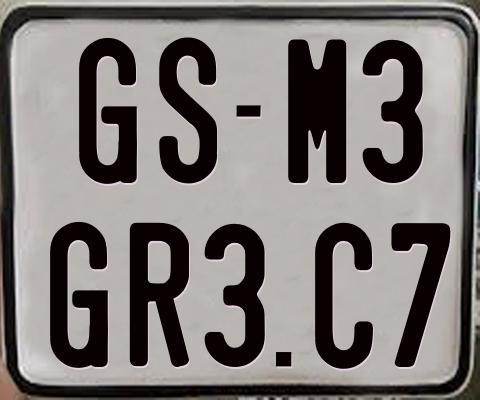3: (359, 38, 422, 185), (201, 221, 264, 366)
7: (391, 222, 454, 368)
C: (313, 222, 374, 373)
G: (49, 220, 112, 369), (79, 37, 139, 183)
M: (288, 39, 351, 189)
R: (128, 221, 187, 370)
S: (156, 36, 216, 187)
